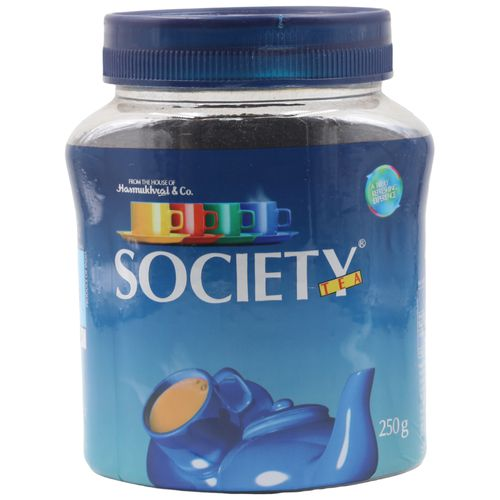society: (62, 117, 440, 488)
